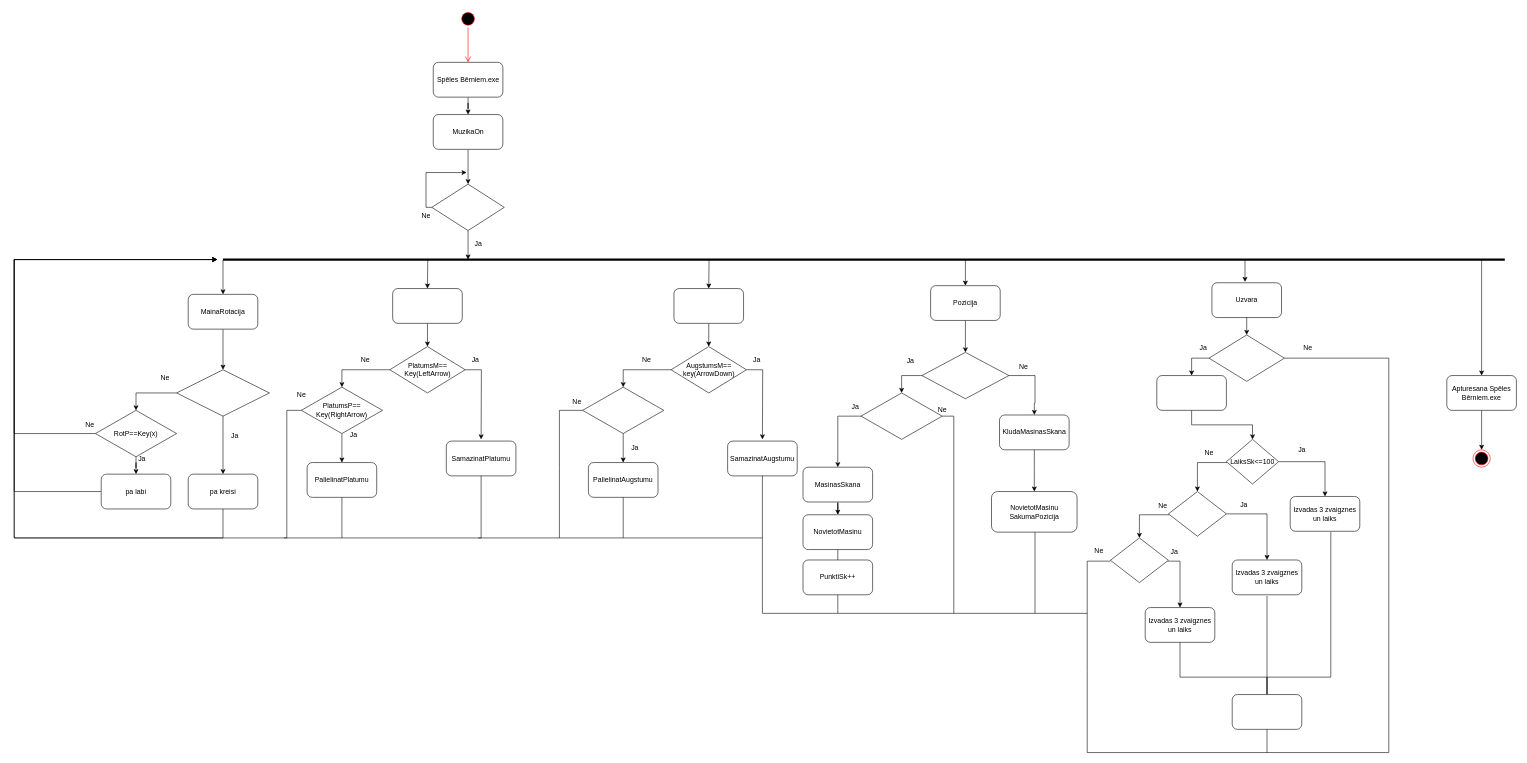
This 1527x763 diagram has some shape labels left out. The shapes that lost their labels are listed below. From the top down, each one's box as (x1, y1, x2, y2) in pixels, then its label:
(431, 184, 504, 231): Masina==LMBClick
(392, 288, 462, 323): MainaPlatums
(673, 288, 744, 323): MainaAugstums
(921, 352, 1009, 399): PareizaPozicija==true
(1208, 334, 1284, 381): PunktiSk==14
(176, 369, 269, 416): RotM==Key(z)
(582, 387, 664, 434): AugstumsP== key(ArrowUp)
(1156, 375, 1226, 410): Atveras Uzvara Logs
(860, 392, 942, 439): PozicijaIzmers==true
(1168, 491, 1226, 536): LaiksSk<=200
(1110, 537, 1168, 583): LaiksSk>300
(1232, 694, 1302, 729): Spelet vel viens reiz
